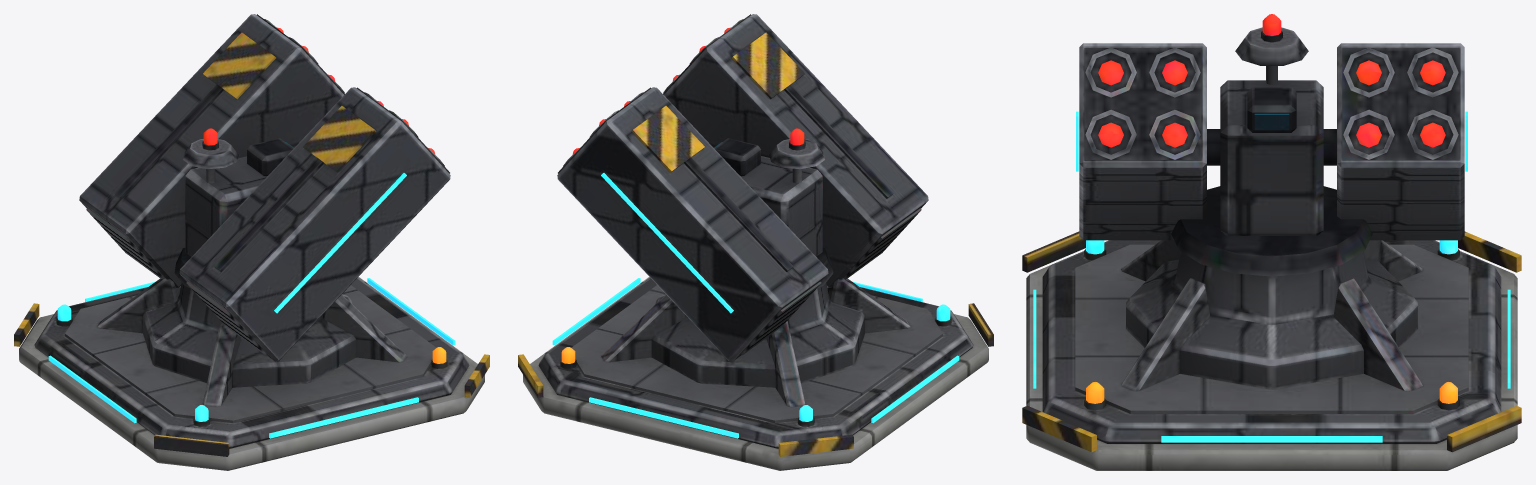
File: terran_missile_battery.glb
3 renders of one model, left to right at view 1: azimuth 30°, elevation 25°; view 2: azimuth 150°, elevation 25°; view 3: azimuth 270°, elevation 25°, orthographic. The views are drawn at different scales.
Parts seen in each view (by area): view 1: Turret, Base; view 2: Turret, Base; view 3: Base, Turret.
Boxes of the visible parts, x1=… form: Turret: x1=79, y1=14, x2=450, y2=361; Base: x1=14, y1=277, x2=489, y2=470; Turret: x1=557, y1=14, x2=928, y2=361; Base: x1=518, y1=277, x2=993, y2=470; Base: x1=1022, y1=231, x2=1521, y2=470; Turret: x1=1076, y1=14, x2=1467, y2=276.
Bounding box in the file's own units: 4.07 × 3.33 × 4.07.
Materials: 1 (1 with a texture image).
